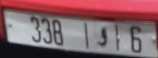3: (30, 15, 41, 44), (41, 17, 52, 44)
6: (128, 26, 144, 54)
8: (52, 19, 64, 46)
waw: (96, 26, 109, 46)
